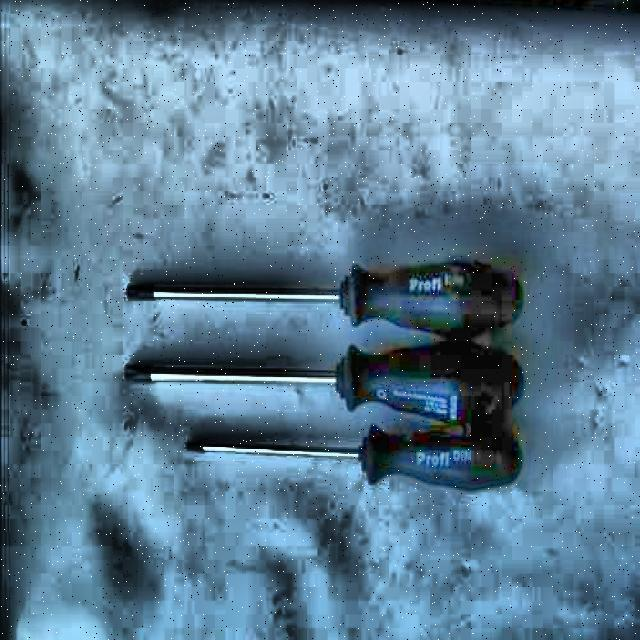screwdriver: (126, 261, 526, 338), (123, 344, 524, 418), (187, 421, 522, 494)
